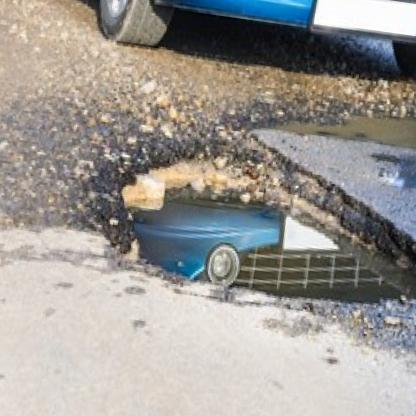pothole: (95, 119, 416, 336)
